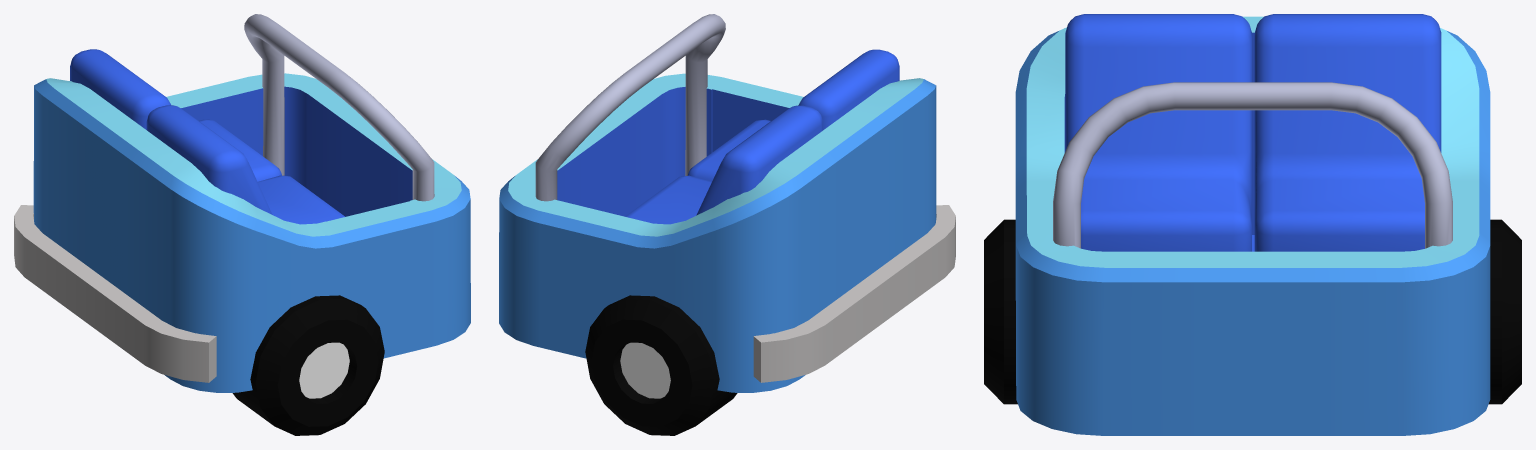
File: Cart_Expend_2.fbx
3 renders of one model, left to right at view 1: azimuth 30°, elevation 25°; view 2: azimuth 150°, elevation 25°; view 3: azimuth 270°, elevation 25°, orthographic. The views are drawn at different scales.
Parts seen in each view (by area): view 1: Cart_Expend_2; view 2: Cart_Expend_2; view 3: Cart_Expend_2.
Part boxes in pixels (x1=…): Cart_Expend_2: x1=14, y1=14, x2=470, y2=435; Cart_Expend_2: x1=499, y1=14, x2=955, y2=435; Cart_Expend_2: x1=984, y1=14, x2=1521, y2=435.
Bounding box in the file's own units: 236 × 210 × 281.
